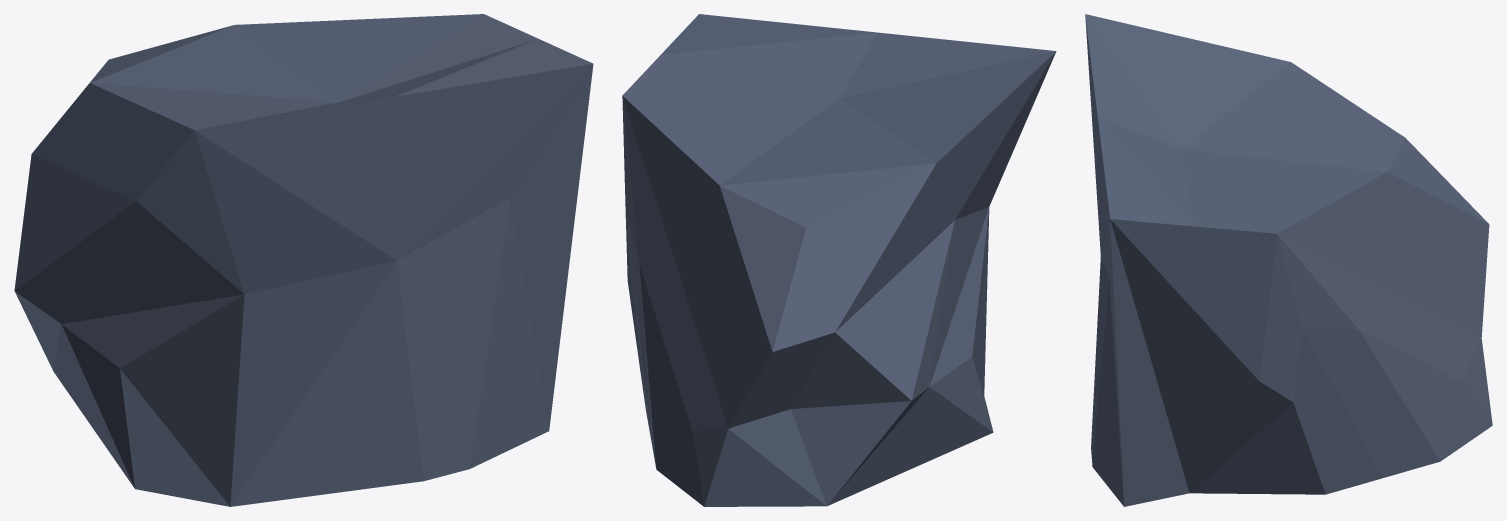
File: SP_Rock06.fbx
3 views of the same model, side by side, from view 1: azimuth 30°, elevation 25°; view 2: azimuth 150°, elevation 25°; view 3: azimuth 270°, elevation 25° (orthographic). The views are drawn at different scales.
Visible parts, largest first — view 1: SP_Rock06; view 2: SP_Rock06; view 3: SP_Rock06.
Part boxes in pixels (bbox=[...]): SP_Rock06: bbox=[14, 14, 593, 506]; SP_Rock06: bbox=[622, 14, 1056, 506]; SP_Rock06: bbox=[1085, 14, 1492, 506].
Size of the model in its own units: 153 by 144 by 156.
1 material, 1 textured.
